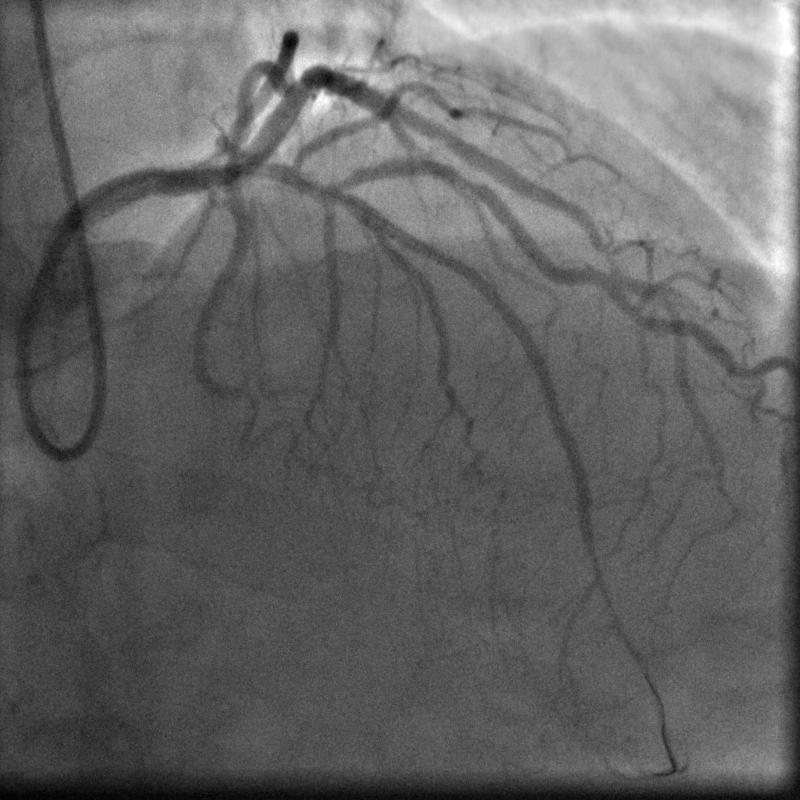Stenosis: (443, 154, 489, 197)
